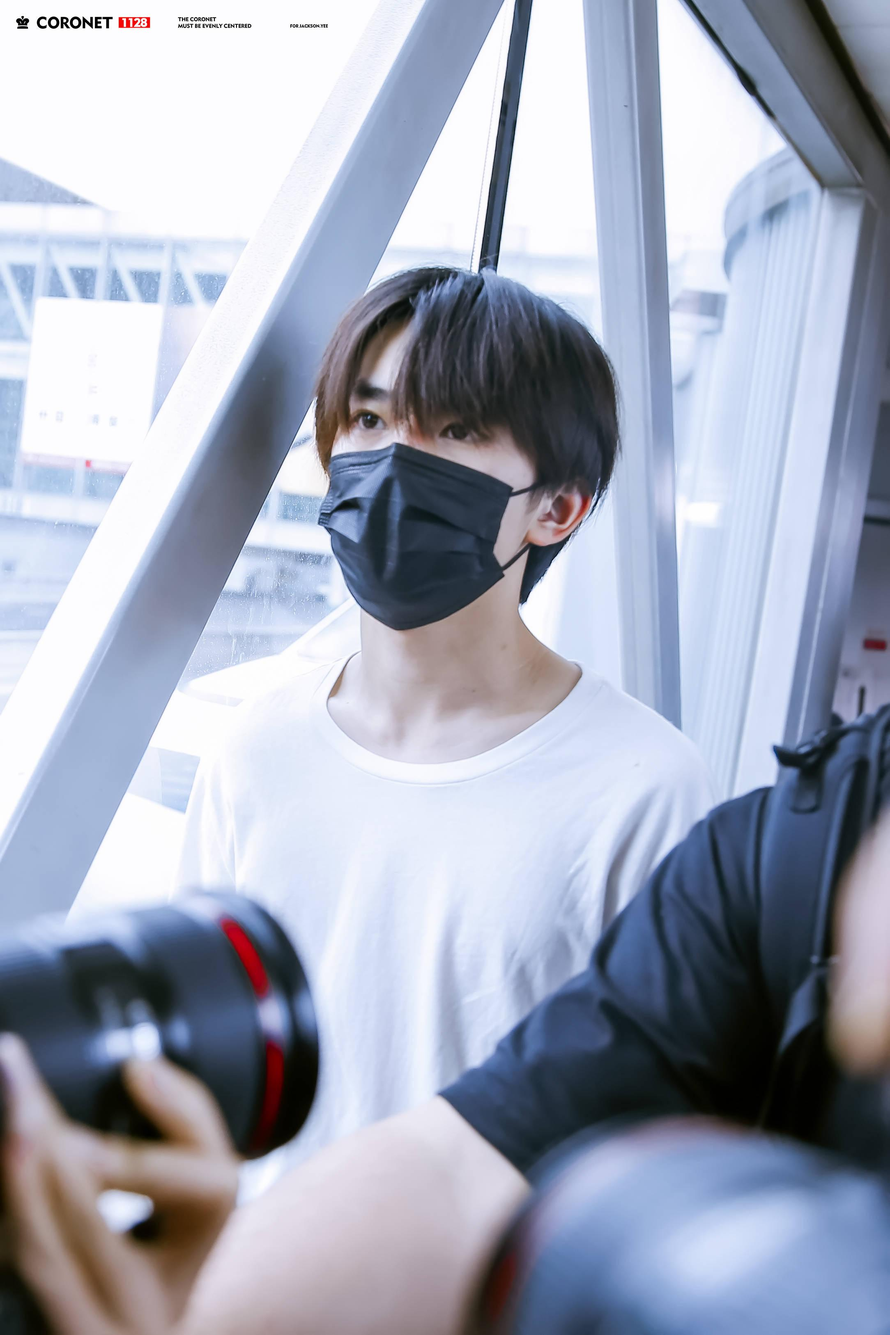OK: (323, 363, 517, 629)
